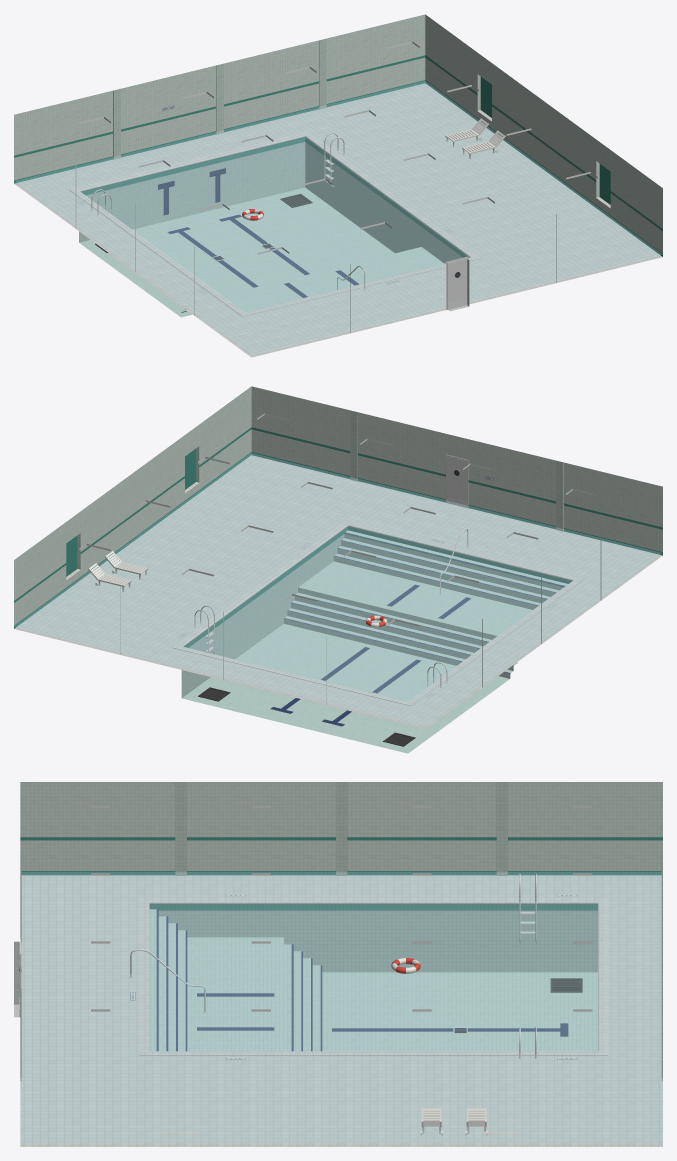
The model's file is sub_pool_07.glb.
3 views of the same model, one above another, from view 1: azimuth 30°, elevation 25°; view 2: azimuth 150°, elevation 25°; view 3: azimuth 270°, elevation 25° (orthographic). The views are drawn at different scales.
Parts seen in each view (by area): view 1: Pool_Water, Tile_Deck, Tile_Wall, Tile_Pool, Tile_Accent, Tile_Lip, Tile_Trim, Tile_Lane, Ceiling_Paint, DoorLeaf_atrium, Plastic_White, Chrome; view 2: Pool_Water, Tile_Deck, Tile_Pool, Tile_Wall, Tile_Accent, Tile_Lip, Tile_Lane, Tile_Trim, Ceiling_Paint, DoorLeaf_atrium, Plastic_White, Chrome (+1 smaller); view 3: Pool_Water, Tile_Deck, Tile_Pool, Tile_Wall, Tile_Lip, Tile_Accent, Tile_Trim, Tile_Lane, Ceiling_Paint, Chrome, Plastic_White, Grate_Iron.
Boxes of the visible parts, bbox=[...] form: Pool_Water: bbox=[15, 81, 661, 354]; Tile_Deck: bbox=[14, 83, 662, 357]; Tile_Wall: bbox=[14, 14, 662, 306]; Tile_Pool: bbox=[79, 142, 462, 317]; Tile_Accent: bbox=[14, 55, 662, 257]; Tile_Lip: bbox=[69, 110, 610, 316]; Tile_Trim: bbox=[75, 39, 556, 332]; Tile_Lane: bbox=[158, 168, 359, 312]; Ceiling_Paint: bbox=[79, 41, 597, 254]; DoorLeaf_atrium: bbox=[447, 258, 467, 309]; Plastic_White: bbox=[445, 118, 505, 158]; Chrome: bbox=[91, 132, 365, 290]; Pool_Water: bbox=[14, 453, 661, 726]; Tile_Deck: bbox=[14, 455, 662, 729]; Tile_Pool: bbox=[181, 530, 567, 753]; Tile_Wall: bbox=[14, 386, 662, 625]; Tile_Accent: bbox=[14, 427, 662, 647]; Tile_Lip: bbox=[66, 482, 583, 705]; Tile_Lane: bbox=[270, 532, 565, 726]; Tile_Trim: bbox=[120, 411, 601, 704]; Ceiling_Paint: bbox=[79, 413, 597, 626]; DoorLeaf_atrium: bbox=[447, 456, 466, 507]; Plastic_White: bbox=[88, 551, 148, 591]; Chrome: bbox=[194, 528, 468, 693]; Pool_Water: bbox=[20, 872, 662, 1142]; Tile_Deck: bbox=[14, 875, 662, 1146]; Tile_Pool: bbox=[149, 909, 597, 1051]; Tile_Wall: bbox=[14, 782, 662, 1004]; Tile_Lip: bbox=[139, 897, 608, 1134]; Tile_Accent: bbox=[20, 837, 662, 910]; Tile_Trim: bbox=[20, 782, 662, 1081]; Tile_Lane: bbox=[156, 909, 568, 1051]; Ceiling_Paint: bbox=[91, 805, 592, 1011]; Chrome: bbox=[129, 873, 537, 1058]; Plastic_White: bbox=[420, 1108, 487, 1135]; Grate_Iron: bbox=[454, 978, 582, 1032].
Size of the model in its own units: 20.15 by 5.68 by 20.2.
Materials: 18 (10 with a texture image).
